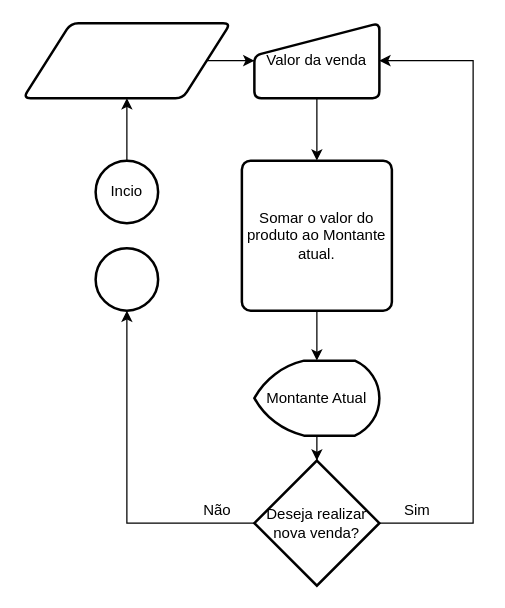
The diagram is 505 pixels wide and 608 high, and some of its shapes have lost their labels. Here are the shapes that lost their labels. From the top down, the box of each, then its label:
(21, 21, 231, 99): Montante Inicial = 0
(94, 246, 159, 311): Fim
